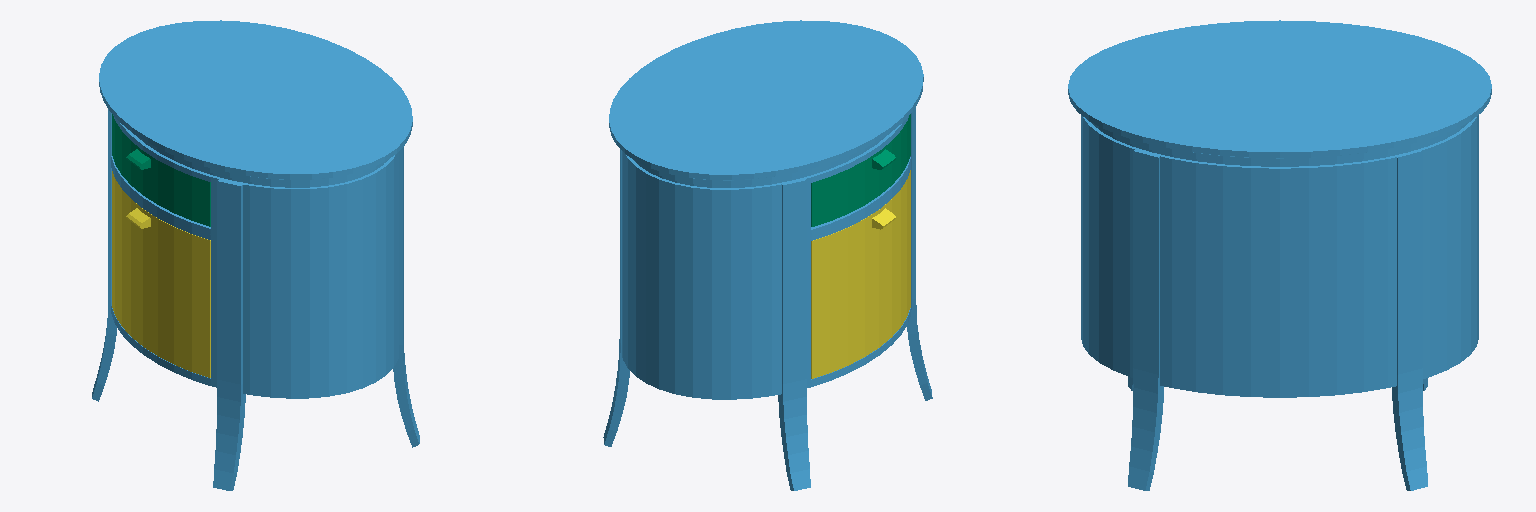
URDF robot description (partnet_5533c35223061f231ff2429be93a82ac):
<?xml version="1.0" ?>
<robot name="partnet_5533c35223061f231ff2429be93a82ac">
	<link name="base"/>
	<link name="link_0">
		<visual name="board-36">
			<origin xyz="0 0 0"/>
			<geometry>
				<mesh filename="textured_objs/original-18.obj"/>
			</geometry>
		</visual>
		<visual name="board-36">
			<origin xyz="0 0 0"/>
			<geometry>
				<mesh filename="textured_objs/new-4.obj"/>
			</geometry>
		</visual>
		<visual name="vertical_side_panel-16">
			<origin xyz="0 0 0"/>
			<geometry>
				<mesh filename="textured_objs/new-2.obj"/>
			</geometry>
		</visual>
		<visual name="vertical_side_panel-17">
			<origin xyz="0 0 0"/>
			<geometry>
				<mesh filename="textured_objs/new-1.obj"/>
			</geometry>
		</visual>
		<visual name="bottom_panel-18">
			<origin xyz="0 0 0"/>
			<geometry>
				<mesh filename="textured_objs/new-3.obj"/>
			</geometry>
		</visual>
		<visual name="leg-19">
			<origin xyz="0 0 0"/>
			<geometry>
				<mesh filename="textured_objs/original-15.obj"/>
			</geometry>
		</visual>
		<visual name="leg-20">
			<origin xyz="0 0 0"/>
			<geometry>
				<mesh filename="textured_objs/original-17.obj"/>
			</geometry>
		</visual>
		<visual name="leg-21">
			<origin xyz="0 0 0"/>
			<geometry>
				<mesh filename="textured_objs/original-16.obj"/>
			</geometry>
		</visual>
		<visual name="leg-22">
			<origin xyz="0 0 0"/>
			<geometry>
				<mesh filename="textured_objs/original-14.obj"/>
			</geometry>
		</visual>
		<visual name="back_panel-25">
			<origin xyz="0 0 0"/>
			<geometry>
				<mesh filename="textured_objs/new-5.obj"/>
			</geometry>
		</visual>
		<visual name="vertical_front_panel-26">
			<origin xyz="0 0 0"/>
			<geometry>
				<mesh filename="textured_objs/new-0.obj"/>
			</geometry>
		</visual>
		<visual name="drawer_rails-56">
			<origin xyz="0 0 0"/>
			<geometry>
				<mesh filename="textured_objs/original-10.obj"/>
			</geometry>
		</visual>
		<visual name="drawer_rails-57">
			<origin xyz="0 0 0"/>
			<geometry>
				<mesh filename="textured_objs/original-9.obj"/>
			</geometry>
		</visual>
		<visual name="drawer_rails-47">
			<origin xyz="0 0 0"/>
			<geometry>
				<mesh filename="textured_objs/original-3.obj"/>
			</geometry>
		</visual>
		<visual name="drawer_rails-48">
			<origin xyz="0 0 0"/>
			<geometry>
				<mesh filename="textured_objs/original-2.obj"/>
			</geometry>
		</visual>
		<collision>
			<origin xyz="0 0 0"/>
			<geometry>
				<mesh filename="textured_objs/original-18.obj"/>
			</geometry>
		</collision>
		<collision>
			<origin xyz="0 0 0"/>
			<geometry>
				<mesh filename="textured_objs/new-4.obj"/>
			</geometry>
		</collision>
		<collision>
			<origin xyz="0 0 0"/>
			<geometry>
				<mesh filename="textured_objs/new-2.obj"/>
			</geometry>
		</collision>
		<collision>
			<origin xyz="0 0 0"/>
			<geometry>
				<mesh filename="textured_objs/new-1.obj"/>
			</geometry>
		</collision>
		<collision>
			<origin xyz="0 0 0"/>
			<geometry>
				<mesh filename="textured_objs/new-3.obj"/>
			</geometry>
		</collision>
		<collision>
			<origin xyz="0 0 0"/>
			<geometry>
				<mesh filename="textured_objs/original-15.obj"/>
			</geometry>
		</collision>
		<collision>
			<origin xyz="0 0 0"/>
			<geometry>
				<mesh filename="textured_objs/original-17.obj"/>
			</geometry>
		</collision>
		<collision>
			<origin xyz="0 0 0"/>
			<geometry>
				<mesh filename="textured_objs/original-16.obj"/>
			</geometry>
		</collision>
		<collision>
			<origin xyz="0 0 0"/>
			<geometry>
				<mesh filename="textured_objs/original-14.obj"/>
			</geometry>
		</collision>
		<collision>
			<origin xyz="0 0 0"/>
			<geometry>
				<mesh filename="textured_objs/new-5.obj"/>
			</geometry>
		</collision>
		<collision>
			<origin xyz="0 0 0"/>
			<geometry>
				<mesh filename="textured_objs/new-0.obj"/>
			</geometry>
		</collision>
		<collision>
			<origin xyz="0 0 0"/>
			<geometry>
				<mesh filename="textured_objs/original-10.obj"/>
			</geometry>
		</collision>
		<collision>
			<origin xyz="0 0 0"/>
			<geometry>
				<mesh filename="textured_objs/original-9.obj"/>
			</geometry>
		</collision>
		<collision>
			<origin xyz="0 0 0"/>
			<geometry>
				<mesh filename="textured_objs/original-3.obj"/>
			</geometry>
		</collision>
		<collision>
			<origin xyz="0 0 0"/>
			<geometry>
				<mesh filename="textured_objs/original-2.obj"/>
			</geometry>
		</collision>
	</link>
	<joint name="joint_0" type="fixed">
		<origin rpy="1.570796326794897 0 -1.570796326794897" xyz="0 0 0"/>
		<child link="link_0"/>
		<parent link="base"/>
	</joint>
	<link name="link_1">
		<visual name="handle-46">
			<origin xyz="0 0 0"/>
			<geometry>
				<mesh filename="textured_objs/original-6.obj"/>
			</geometry>
		</visual>
		<visual name="drawer_front-49">
			<origin xyz="0 0 0"/>
			<geometry>
				<mesh filename="textured_objs/original-5.obj"/>
			</geometry>
		</visual>
		<visual name="drawer_side-50">
			<origin xyz="0 0 0"/>
			<geometry>
				<mesh filename="textured_objs/new-7.obj"/>
			</geometry>
		</visual>
		<visual name="drawer_side-51">
			<origin xyz="0 0 0"/>
			<geometry>
				<mesh filename="textured_objs/new-6.obj"/>
			</geometry>
		</visual>
		<visual name="drawer_back-52">
			<origin xyz="0 0 0"/>
			<geometry>
				<mesh filename="textured_objs/new-8.obj"/>
			</geometry>
		</visual>
		<visual name="drawer_bottom-53">
			<origin xyz="0 0 0"/>
			<geometry>
				<mesh filename="textured_objs/new-9.obj"/>
			</geometry>
		</visual>
		<collision>
			<origin xyz="0 0 0"/>
			<geometry>
				<mesh filename="textured_objs/original-6.obj"/>
			</geometry>
		</collision>
		<collision>
			<origin xyz="0 0 0"/>
			<geometry>
				<mesh filename="textured_objs/original-5.obj"/>
			</geometry>
		</collision>
		<collision>
			<origin xyz="0 0 0"/>
			<geometry>
				<mesh filename="textured_objs/new-7.obj"/>
			</geometry>
		</collision>
		<collision>
			<origin xyz="0 0 0"/>
			<geometry>
				<mesh filename="textured_objs/new-6.obj"/>
			</geometry>
		</collision>
		<collision>
			<origin xyz="0 0 0"/>
			<geometry>
				<mesh filename="textured_objs/new-8.obj"/>
			</geometry>
		</collision>
		<collision>
			<origin xyz="0 0 0"/>
			<geometry>
				<mesh filename="textured_objs/new-9.obj"/>
			</geometry>
		</collision>
	</link>
	<joint name="joint_1" type="prismatic">
		<origin xyz="0 0 0"/>
		<axis xyz="0 0 1"/>
		<child link="link_1"/>
		<parent link="link_0"/>
		<limit lower="0" upper="0.45199999999999996"/>
	</joint>
	<link name="link_2">
		<visual name="handle-55">
			<origin xyz="0 0 0"/>
			<geometry>
				<mesh filename="textured_objs/original-12.obj"/>
			</geometry>
		</visual>
		<visual name="drawer_front-58">
			<origin xyz="0 0 0"/>
			<geometry>
				<mesh filename="textured_objs/original-8.obj"/>
			</geometry>
		</visual>
		<visual name="drawer_side-59">
			<origin xyz="0 0 0"/>
			<geometry>
				<mesh filename="textured_objs/new-11.obj"/>
			</geometry>
		</visual>
		<visual name="drawer_side-60">
			<origin xyz="0 0 0"/>
			<geometry>
				<mesh filename="textured_objs/new-10.obj"/>
			</geometry>
		</visual>
		<visual name="drawer_back-61">
			<origin xyz="0 0 0"/>
			<geometry>
				<mesh filename="textured_objs/new-12.obj"/>
			</geometry>
		</visual>
		<visual name="drawer_bottom-62">
			<origin xyz="0 0 0"/>
			<geometry>
				<mesh filename="textured_objs/new-13.obj"/>
			</geometry>
		</visual>
		<collision>
			<origin xyz="0 0 0"/>
			<geometry>
				<mesh filename="textured_objs/original-12.obj"/>
			</geometry>
		</collision>
		<collision>
			<origin xyz="0 0 0"/>
			<geometry>
				<mesh filename="textured_objs/original-8.obj"/>
			</geometry>
		</collision>
		<collision>
			<origin xyz="0 0 0"/>
			<geometry>
				<mesh filename="textured_objs/new-11.obj"/>
			</geometry>
		</collision>
		<collision>
			<origin xyz="0 0 0"/>
			<geometry>
				<mesh filename="textured_objs/new-10.obj"/>
			</geometry>
		</collision>
		<collision>
			<origin xyz="0 0 0"/>
			<geometry>
				<mesh filename="textured_objs/new-12.obj"/>
			</geometry>
		</collision>
		<collision>
			<origin xyz="0 0 0"/>
			<geometry>
				<mesh filename="textured_objs/new-13.obj"/>
			</geometry>
		</collision>
	</link>
	<joint name="joint_2" type="fixed">
		<origin xyz="0 0 0"/>
		<axis xyz="0 0 1"/>
		<child link="link_2"/>
		<parent link="link_0"/>
		<limit lower="0" upper="0.42799999999999994"/>
	</joint>
</robot>

--- Render facts (derived) ---
Views: 3 orthographic renders of the robot side by side, from view 1: azimuth 30°, elevation 25°; view 2: azimuth 150°, elevation 25°; view 3: azimuth 270°, elevation 25°.
Model partnet_5533c35223061f231ff2429be93a82ac with 4 links and 3 joints (1 prismatic, 2 fixed), rooted at base, posed every joint at zero.
Visible links, largest first — view 1: link_0, link_2, link_1; view 2: link_0, link_2, link_1; view 3: link_0.
Boxes of the visible links, left/top/right/bottom form: link_0: left=92, top=20, right=419, bottom=490; link_2: left=112, top=171, right=210, bottom=377; link_1: left=112, top=114, right=210, bottom=226; link_0: left=603, top=20, right=932, bottom=490; link_2: left=811, top=170, right=910, bottom=378; link_1: left=811, top=114, right=910, bottom=226; link_0: left=1068, top=20, right=1491, bottom=490.
Bounding box of the posed robot: 1.03 × 1.41 × 1.29 m (x, y, z).
27 mesh visuals loaded from 27 distinct referenced files (27 OBJ).
